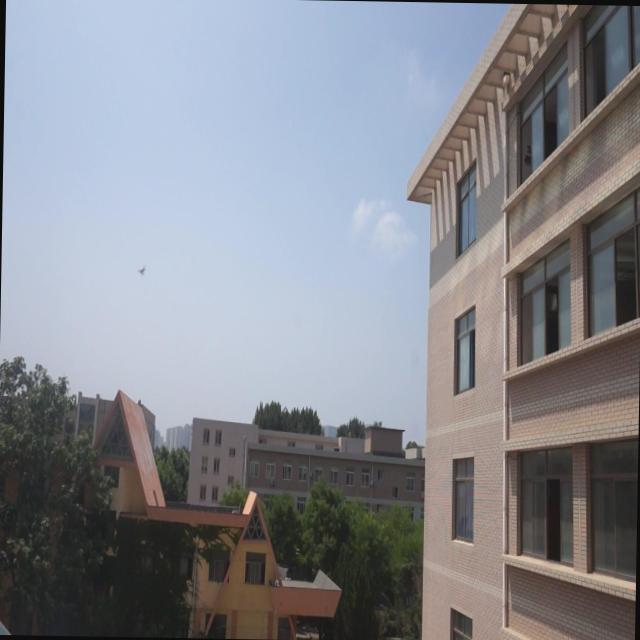drone: (137, 262, 146, 278)
